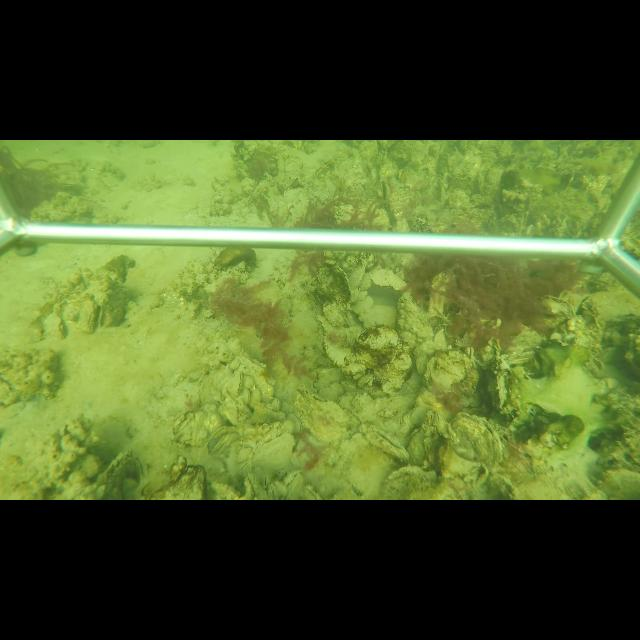Oyster-Closed: (293, 384, 363, 441), (449, 411, 505, 467), (313, 313, 367, 367), (394, 291, 435, 351), (422, 348, 474, 393), (94, 447, 136, 498), (250, 433, 298, 473), (489, 337, 512, 414), (362, 426, 411, 462), (327, 266, 355, 309), (204, 421, 241, 453), (367, 266, 411, 292), (535, 295, 575, 323), (220, 389, 241, 423), (249, 401, 287, 418), (243, 471, 264, 500), (210, 482, 241, 499), (229, 371, 244, 398)
Oyster-Open: (375, 179, 391, 203)
